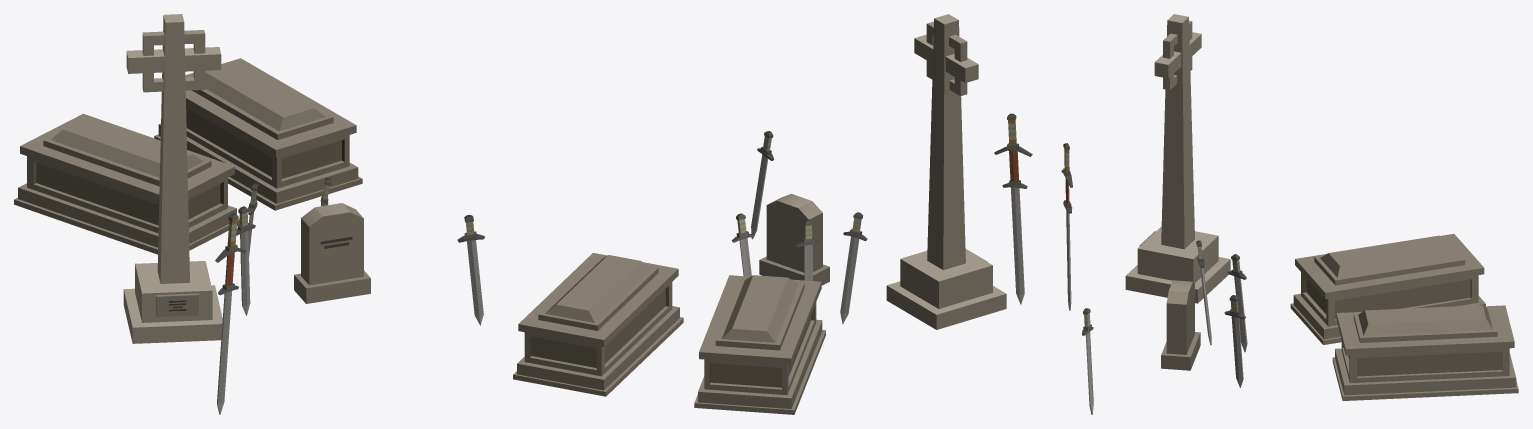
The model's file is LargeMore_SF_Prop_Undead_Graves_01.fbx.
3 views of the same model, side by side, from view 1: azimuth 30°, elevation 25°; view 2: azimuth 150°, elevation 25°; view 3: azimuth 270°, elevation 25° (orthographic). The views are drawn at different scales.
Parts seen in each view (by area): view 1: SF_Prop_Undead_Graves_01; view 2: SF_Prop_Undead_Graves_01; view 3: SF_Prop_Undead_Graves_01.
Boxes of the visible parts, box(x1,y1,x2,y2) form: SF_Prop_Undead_Graves_01: box(14, 14, 484, 414); SF_Prop_Undead_Graves_01: box(513, 14, 1032, 414); SF_Prop_Undead_Graves_01: box(1061, 14, 1518, 414).
Bounding box in the file's own units: 553 × 544 × 753.
